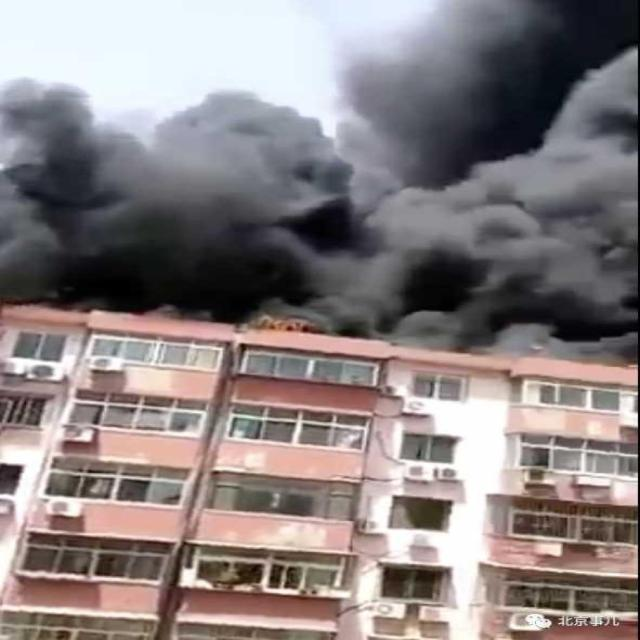Smoke: (1, 1, 640, 368)
